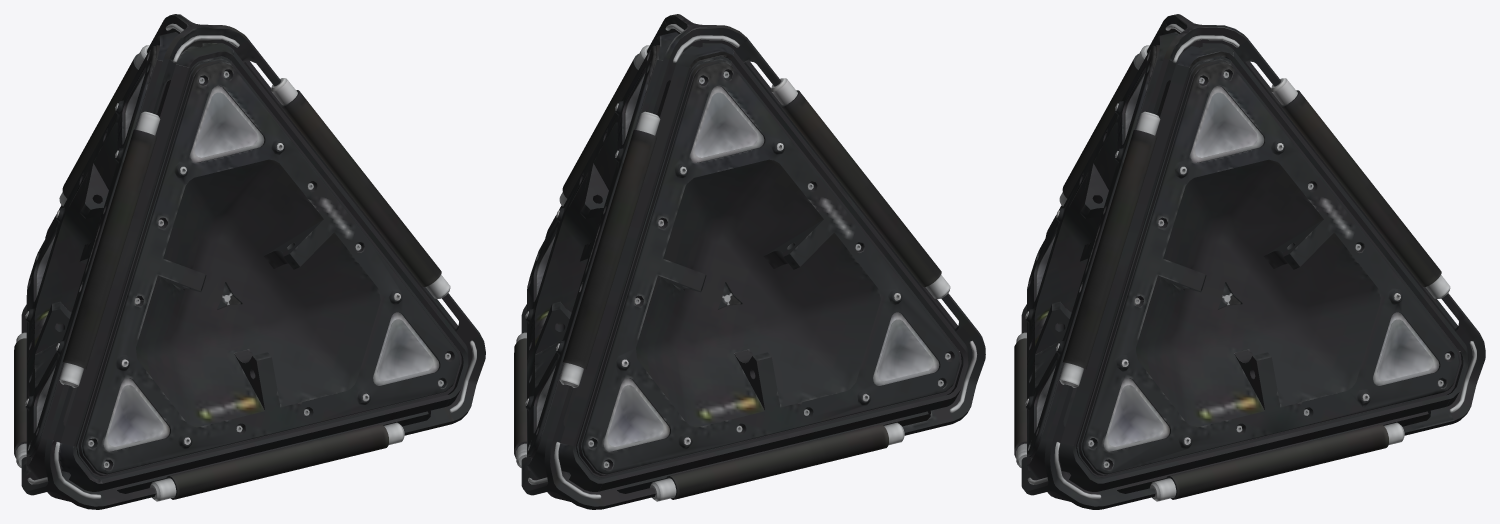
The model's file is project-lod1.glb.
3 renders of one model, left to right at view 1: azimuth 30°, elevation 25°; view 2: azimuth 150°, elevation 25°; view 3: azimuth 270°, elevation 25°, orthographic.
Parts seen in each view (by area): view 1: Sci-fi_triangle_container_Sci-fi_triangle_container_0; view 2: Sci-fi_triangle_container_Sci-fi_triangle_container_0; view 3: Sci-fi_triangle_container_Sci-fi_triangle_container_0.
Boxes of the visible parts, bbox=[...] form: Sci-fi_triangle_container_Sci-fi_triangle_container_0: bbox=[14, 14, 485, 509]; Sci-fi_triangle_container_Sci-fi_triangle_container_0: bbox=[514, 14, 985, 509]; Sci-fi_triangle_container_Sci-fi_triangle_container_0: bbox=[1014, 14, 1485, 509].
Size of the model in its own units: 1.01 by 0.8448 by 0.9359.
1 material, 1 textured.
